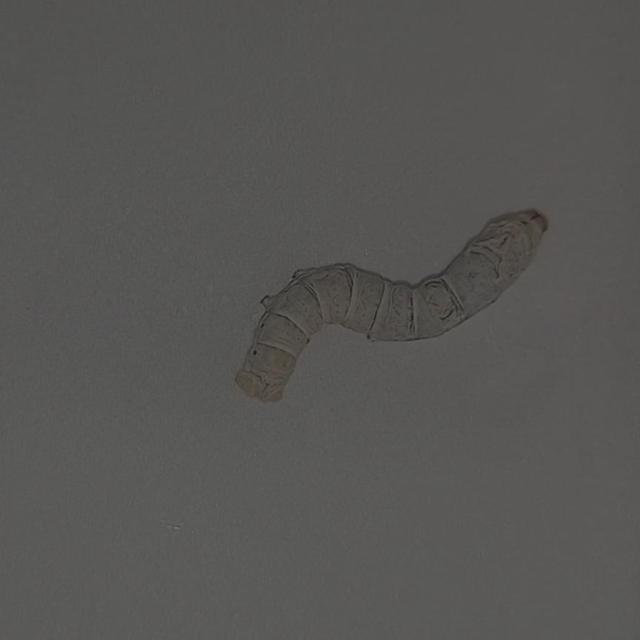Healthy: (222, 196, 553, 405)
